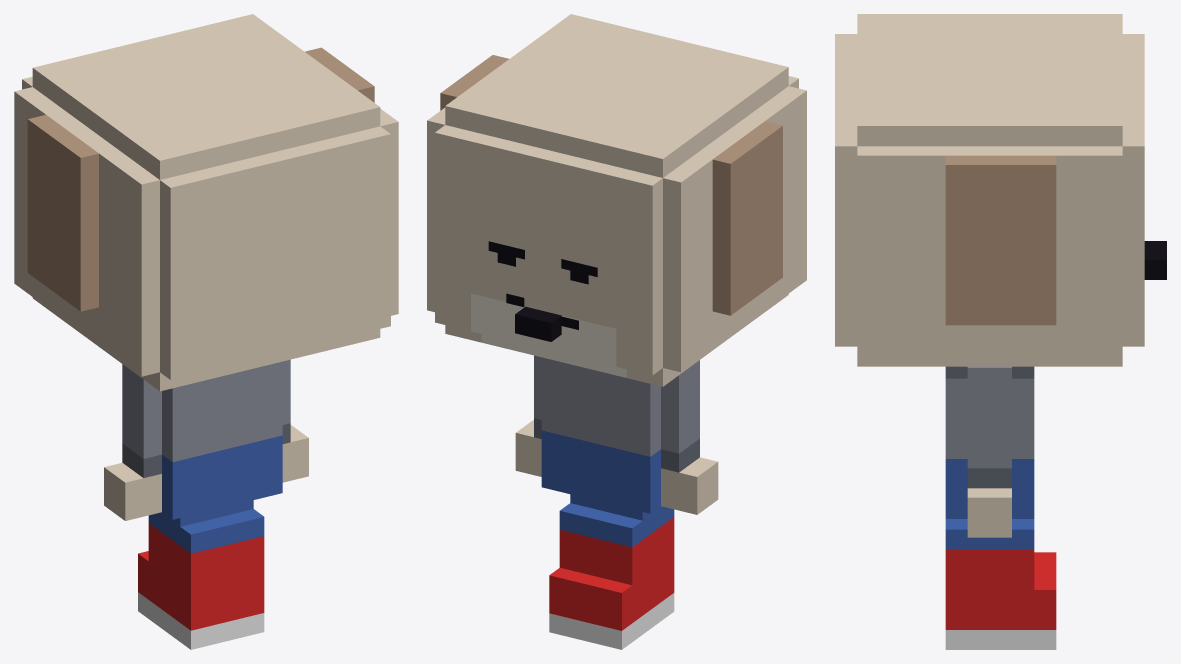
File: personaje_chillguy_baile.obj
3 views of the same model, side by side, from view 1: azimuth 30°, elevation 25°; view 2: azimuth 150°, elevation 25°; view 3: azimuth 270°, elevation 25° (orthographic). The views are drawn at different scales.
Visible parts, largest first — view 1: cabeza, orejas, torso, falda, bota_izq, bota_der, mano_izq, manga_izq, bota_izq_borde, suela_izq, mano_der, bota_der_borde (+3 smaller); view 2: cabeza, orejas, torso, falda, bota_izq, hocico, bota_der, mano_izq, manga_izq, bota_izq_borde, suela_izq, nariz (+6 smaller); view 3: cabeza, orejas, bota_der, torso, falda, manga_der, mano_der, suela_der, bota_der_borde, brazo_der, manga_der_borde, nariz (+1 smaller).
Boxes of the visible parts, x1,y1,x2,y2 form: cabeza: [14, 14, 398, 391]; orejas: [27, 47, 374, 311]; torso: [162, 361, 282, 462]; falda: [162, 435, 282, 519]; bota_izq: [138, 523, 227, 630]; bota_der: [227, 536, 264, 621]; mano_izq: [104, 462, 161, 520]; manga_izq: [122, 386, 161, 458]; bota_izq_borde: [148, 512, 227, 553]; suela_izq: [138, 592, 227, 649]; mano_der: [282, 425, 308, 482]; bota_der_borde: [217, 509, 264, 544]; cabeza: [427, 14, 806, 386]; orejas: [440, 55, 782, 315]; torso: [541, 357, 660, 456]; falda: [541, 430, 660, 513]; bota_izq: [585, 517, 674, 630]; hocico: [471, 293, 626, 377]; bota_der: [549, 530, 595, 621]; mano_izq: [661, 457, 718, 514]; manga_izq: [661, 381, 699, 453]; bota_izq_borde: [596, 506, 674, 547]; suela_izq: [585, 593, 674, 649]; nariz: [515, 306, 561, 341]; cabeza: [835, 14, 1144, 366]; orejas: [945, 155, 1056, 325]; bota_der: [945, 549, 1056, 629]; torso: [945, 378, 1034, 458]; falda: [945, 459, 1034, 518]; manga_der: [967, 408, 1011, 468]; mano_der: [967, 488, 1011, 537]; suela_der: [945, 630, 1056, 649]; bota_der_borde: [945, 519, 1034, 549]; brazo_der: [967, 366, 1011, 407]; manga_der_borde: [967, 468, 1011, 488]; nariz: [1144, 241, 1166, 279].
Size of the model in its own units: 0.64 by 1.12 by 0.6.
